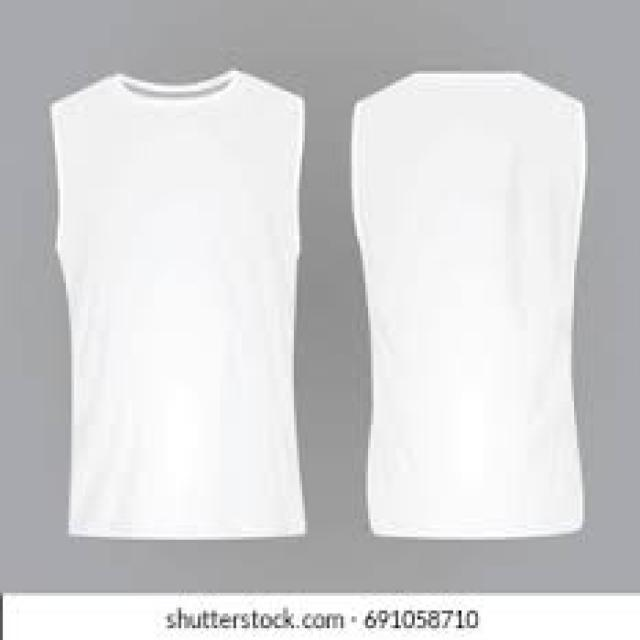no_vest: (49, 68, 306, 540), (352, 70, 588, 540)
